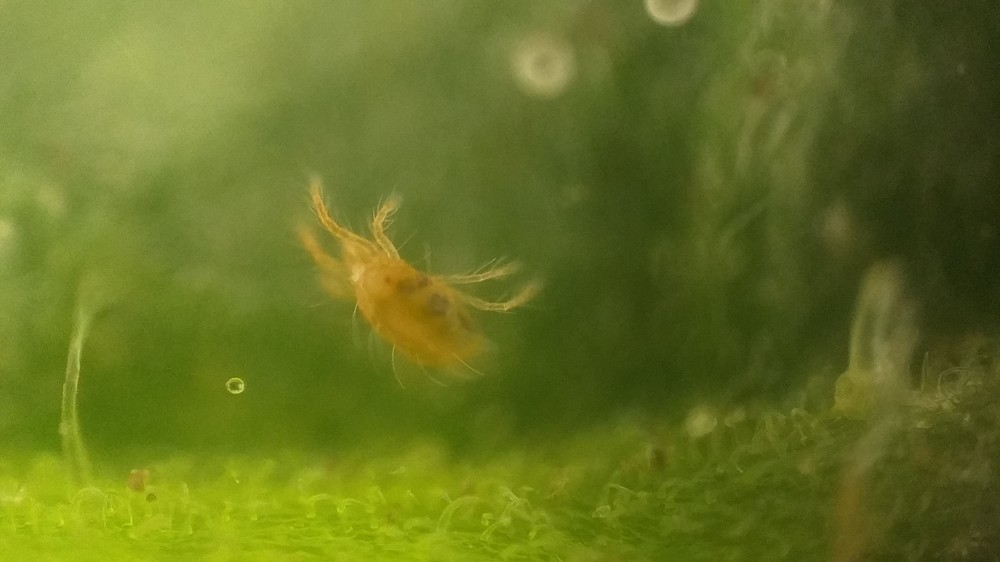Aracnido Rojo: (268, 156, 573, 412)
